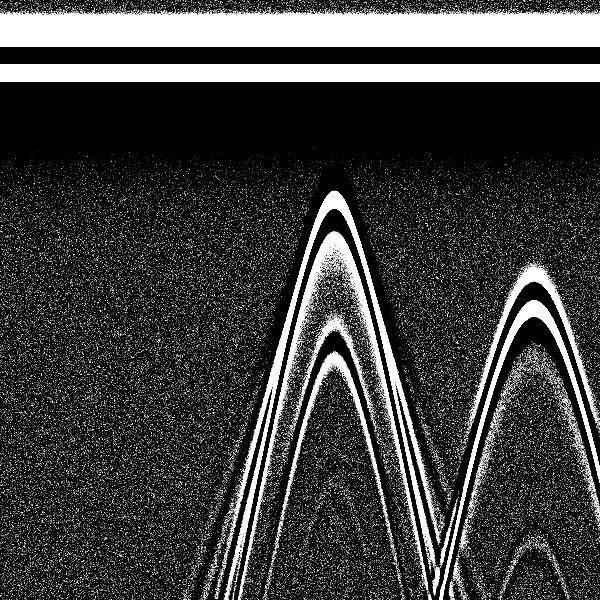pipe: (476, 7, 590, 362), (282, 6, 387, 280)
